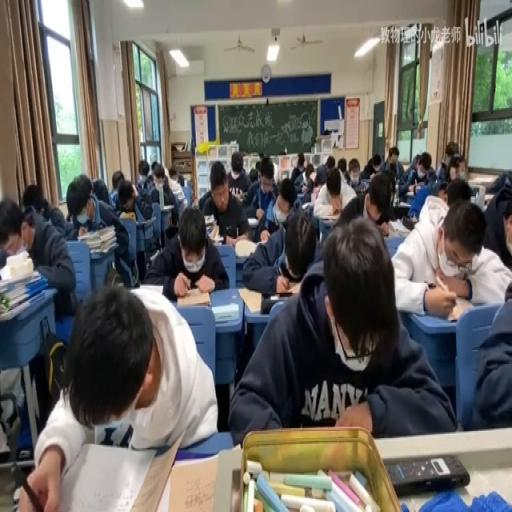calculator: (402, 306, 462, 391), (166, 452, 222, 512), (238, 282, 298, 312), (446, 297, 476, 323), (175, 289, 210, 307), (212, 300, 238, 322), (383, 234, 406, 258), (467, 181, 487, 206), (234, 238, 257, 258), (389, 218, 411, 236), (204, 214, 216, 234), (138, 283, 162, 292), (136, 215, 154, 226), (120, 209, 136, 221), (295, 192, 305, 205), (322, 211, 338, 219), (246, 214, 258, 224), (484, 193, 494, 205), (149, 248, 159, 260), (358, 179, 370, 189), (230, 192, 242, 202), (160, 204, 173, 210), (406, 186, 414, 195), (301, 202, 311, 209)
paper: (227, 216, 449, 442), (21, 282, 216, 509), (390, 190, 510, 313), (0, 192, 77, 323), (146, 204, 226, 298), (70, 174, 134, 288), (465, 282, 512, 432), (339, 172, 396, 230), (243, 158, 280, 235), (149, 162, 181, 226), (399, 150, 432, 196), (226, 151, 250, 199), (304, 160, 330, 200), (444, 178, 470, 206), (21, 184, 43, 216), (109, 169, 128, 206), (485, 170, 512, 194), (359, 154, 382, 180), (90, 176, 110, 205), (290, 154, 306, 188), (136, 159, 150, 191), (326, 171, 340, 199), (387, 145, 399, 166), (444, 141, 458, 158), (436, 158, 446, 180), (456, 160, 466, 178), (150, 159, 159, 178), (168, 165, 178, 182), (337, 156, 346, 174), (153, 174, 164, 188), (248, 168, 258, 183), (325, 154, 334, 170), (349, 162, 359, 175), (254, 158, 262, 173), (176, 174, 183, 186), (413, 154, 420, 165), (311, 174, 318, 184)
person: (386, 452, 468, 494), (394, 203, 410, 219)
